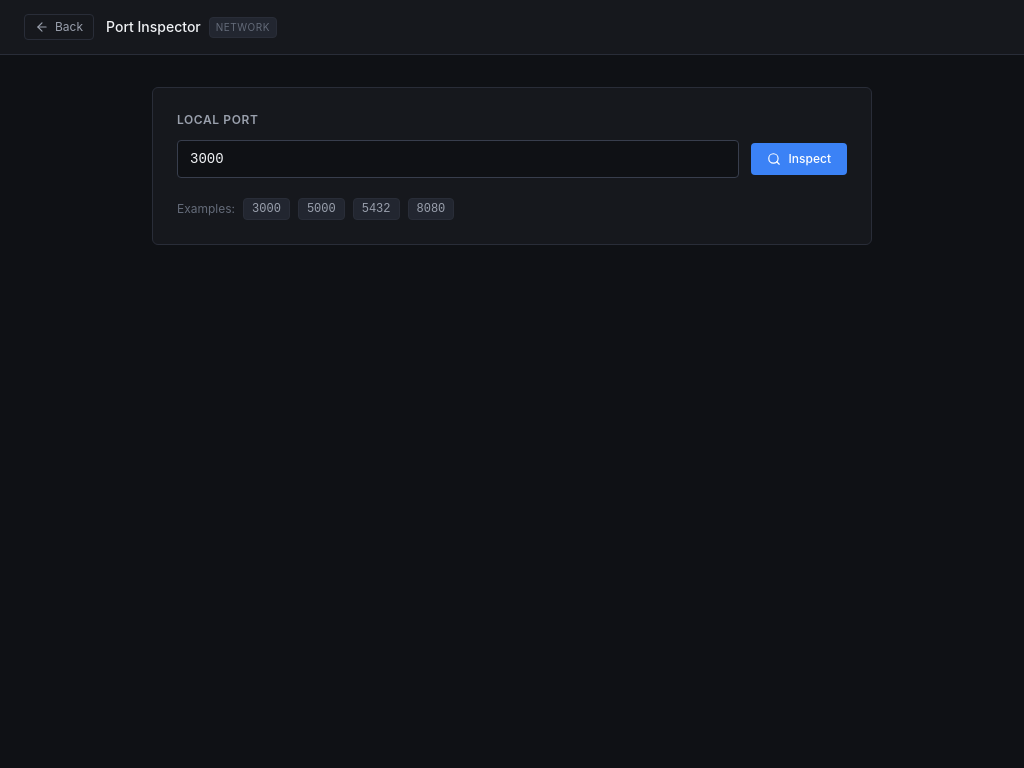
PortInspectorPage › inspects port and renders sockets table and process owners preserving dual-stack
Click the button "Inspect". click: (799, 159)
box: [751,143,847,175]
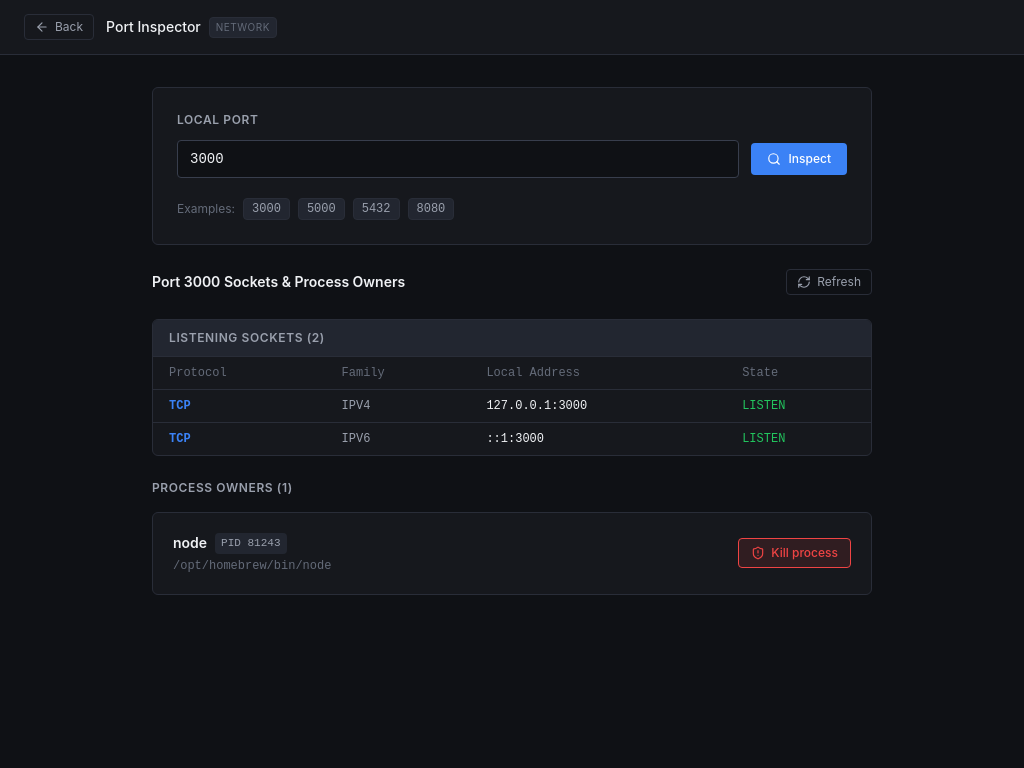
Result: the text "Port 3000 Sockets & Process Owners" is shown at [152,272,405,292]
Result: the text "127.0.0.1:3000" is shown at [470,390,726,422]
Result: the text "::1:3000" is shown at [470,422,726,455]
